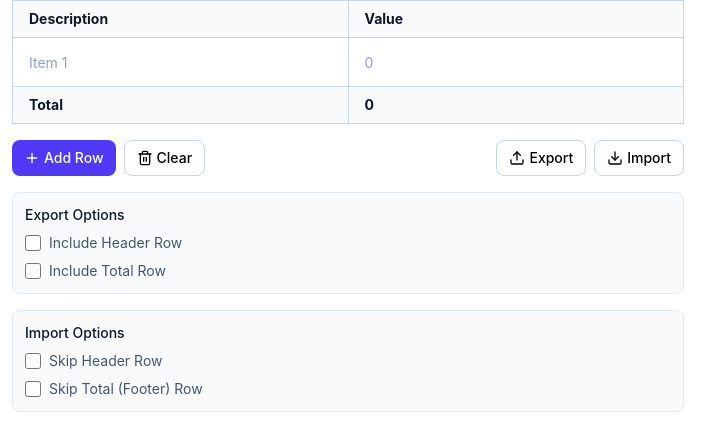
Test: ColumnSumTable › Sum Calculation › should update sum when values change
Type "100" into the field named "value for row 1" at (516, 62), box [352, 42, 679, 82]
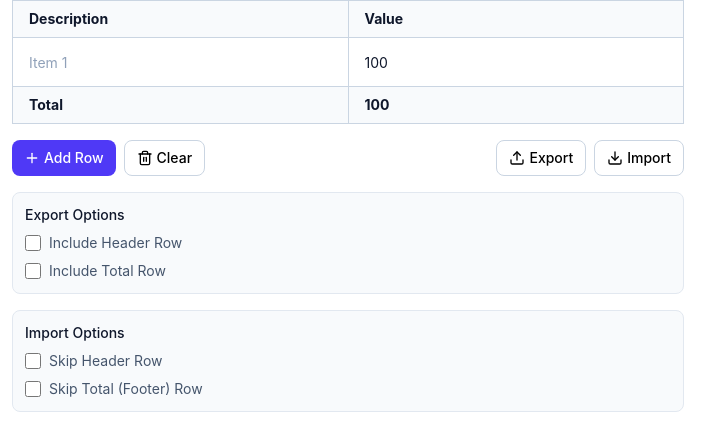
Result: the text "Total" shows "100" at [364, 96, 389, 113]
Replace the text in the field named "value for row 1" with "200" at (516, 62), box [352, 42, 679, 82]
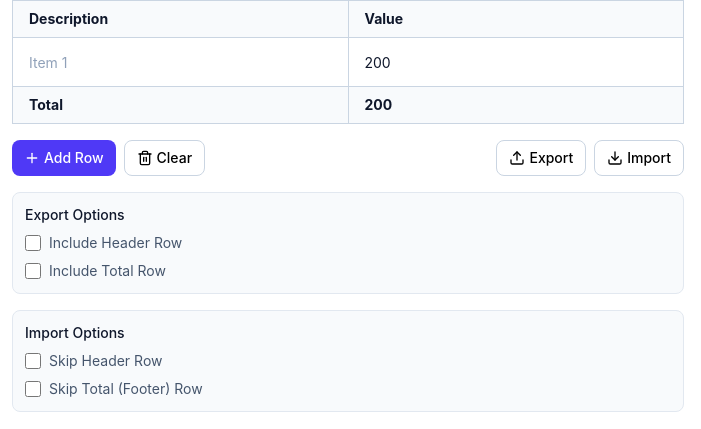
Result: the text "Total" shows "200" at [364, 96, 392, 113]
